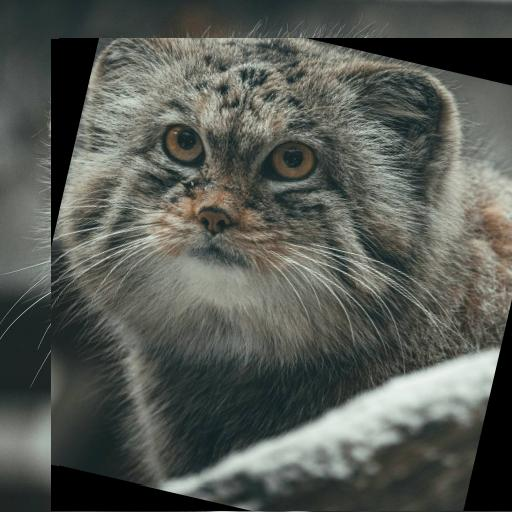manul: (59, 39, 512, 485)
